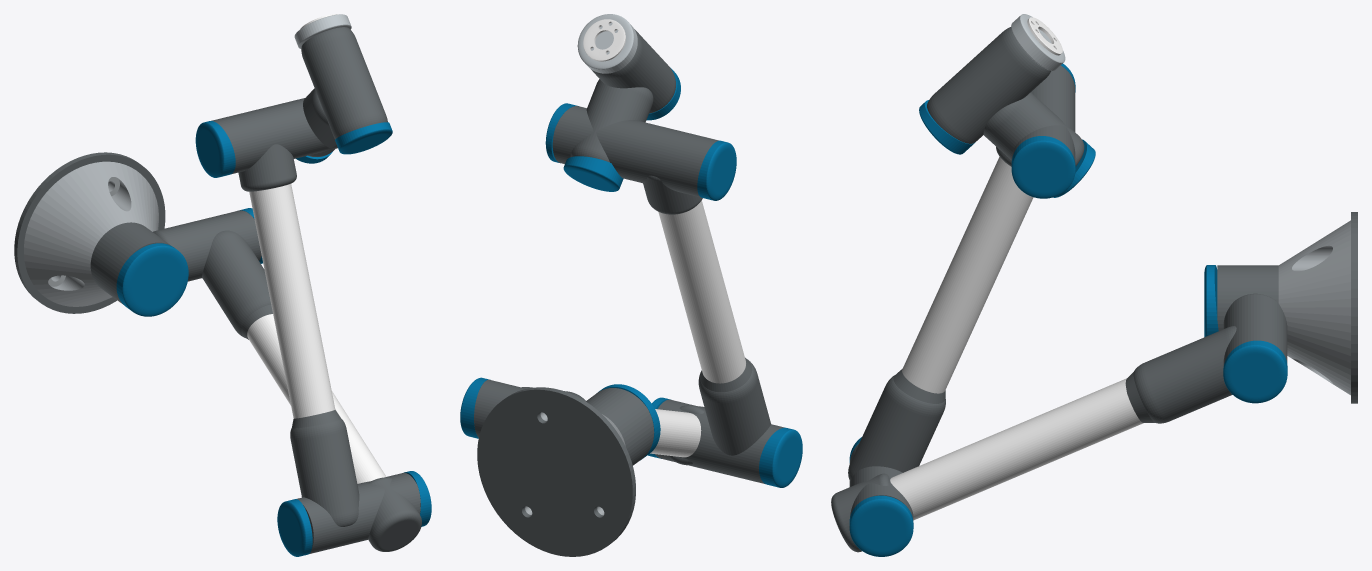
Rendered from tinker.obj.
3 renders of one model, left to right at view 1: azimuth 30°, elevation 25°; view 2: azimuth 150°, elevation 25°; view 3: azimuth 270°, elevation 25°, orthographic. The views are drawn at different scales.
Visible parts, largest first — view 1: group_0_6383466, group_0_16448250, group_0_10988977, group_0_30377, group_0_12568524; view 2: group_0_6383466, group_0_16448250, group_0_30377, group_0_12568524; view 3: group_0_6383466, group_0_16448250, group_0_30377, group_0_10988977, group_0_12568524.
Part boxes in pixels (x1,y1,x2,y2): group_0_6383466: (14, 27, 421, 553); group_0_16448250: (247, 14, 386, 483); group_0_10988977: (24, 161, 158, 306); group_0_30377: (116, 121, 431, 556); group_0_12568524: (294, 14, 351, 48); group_0_6383466: (474, 29, 784, 556); group_0_16448250: (583, 19, 745, 457); group_0_30377: (460, 67, 802, 487); group_0_12568524: (577, 14, 637, 73); group_0_6383466: (831, 27, 1357, 552); group_0_16448250: (890, 17, 1143, 520); group_0_30377: (849, 63, 1287, 556); group_0_10988977: (1278, 220, 1350, 395); group_0_12568524: (1011, 14, 1065, 70).
Size of the model in its own units: 85.07 by 185 by 165.
